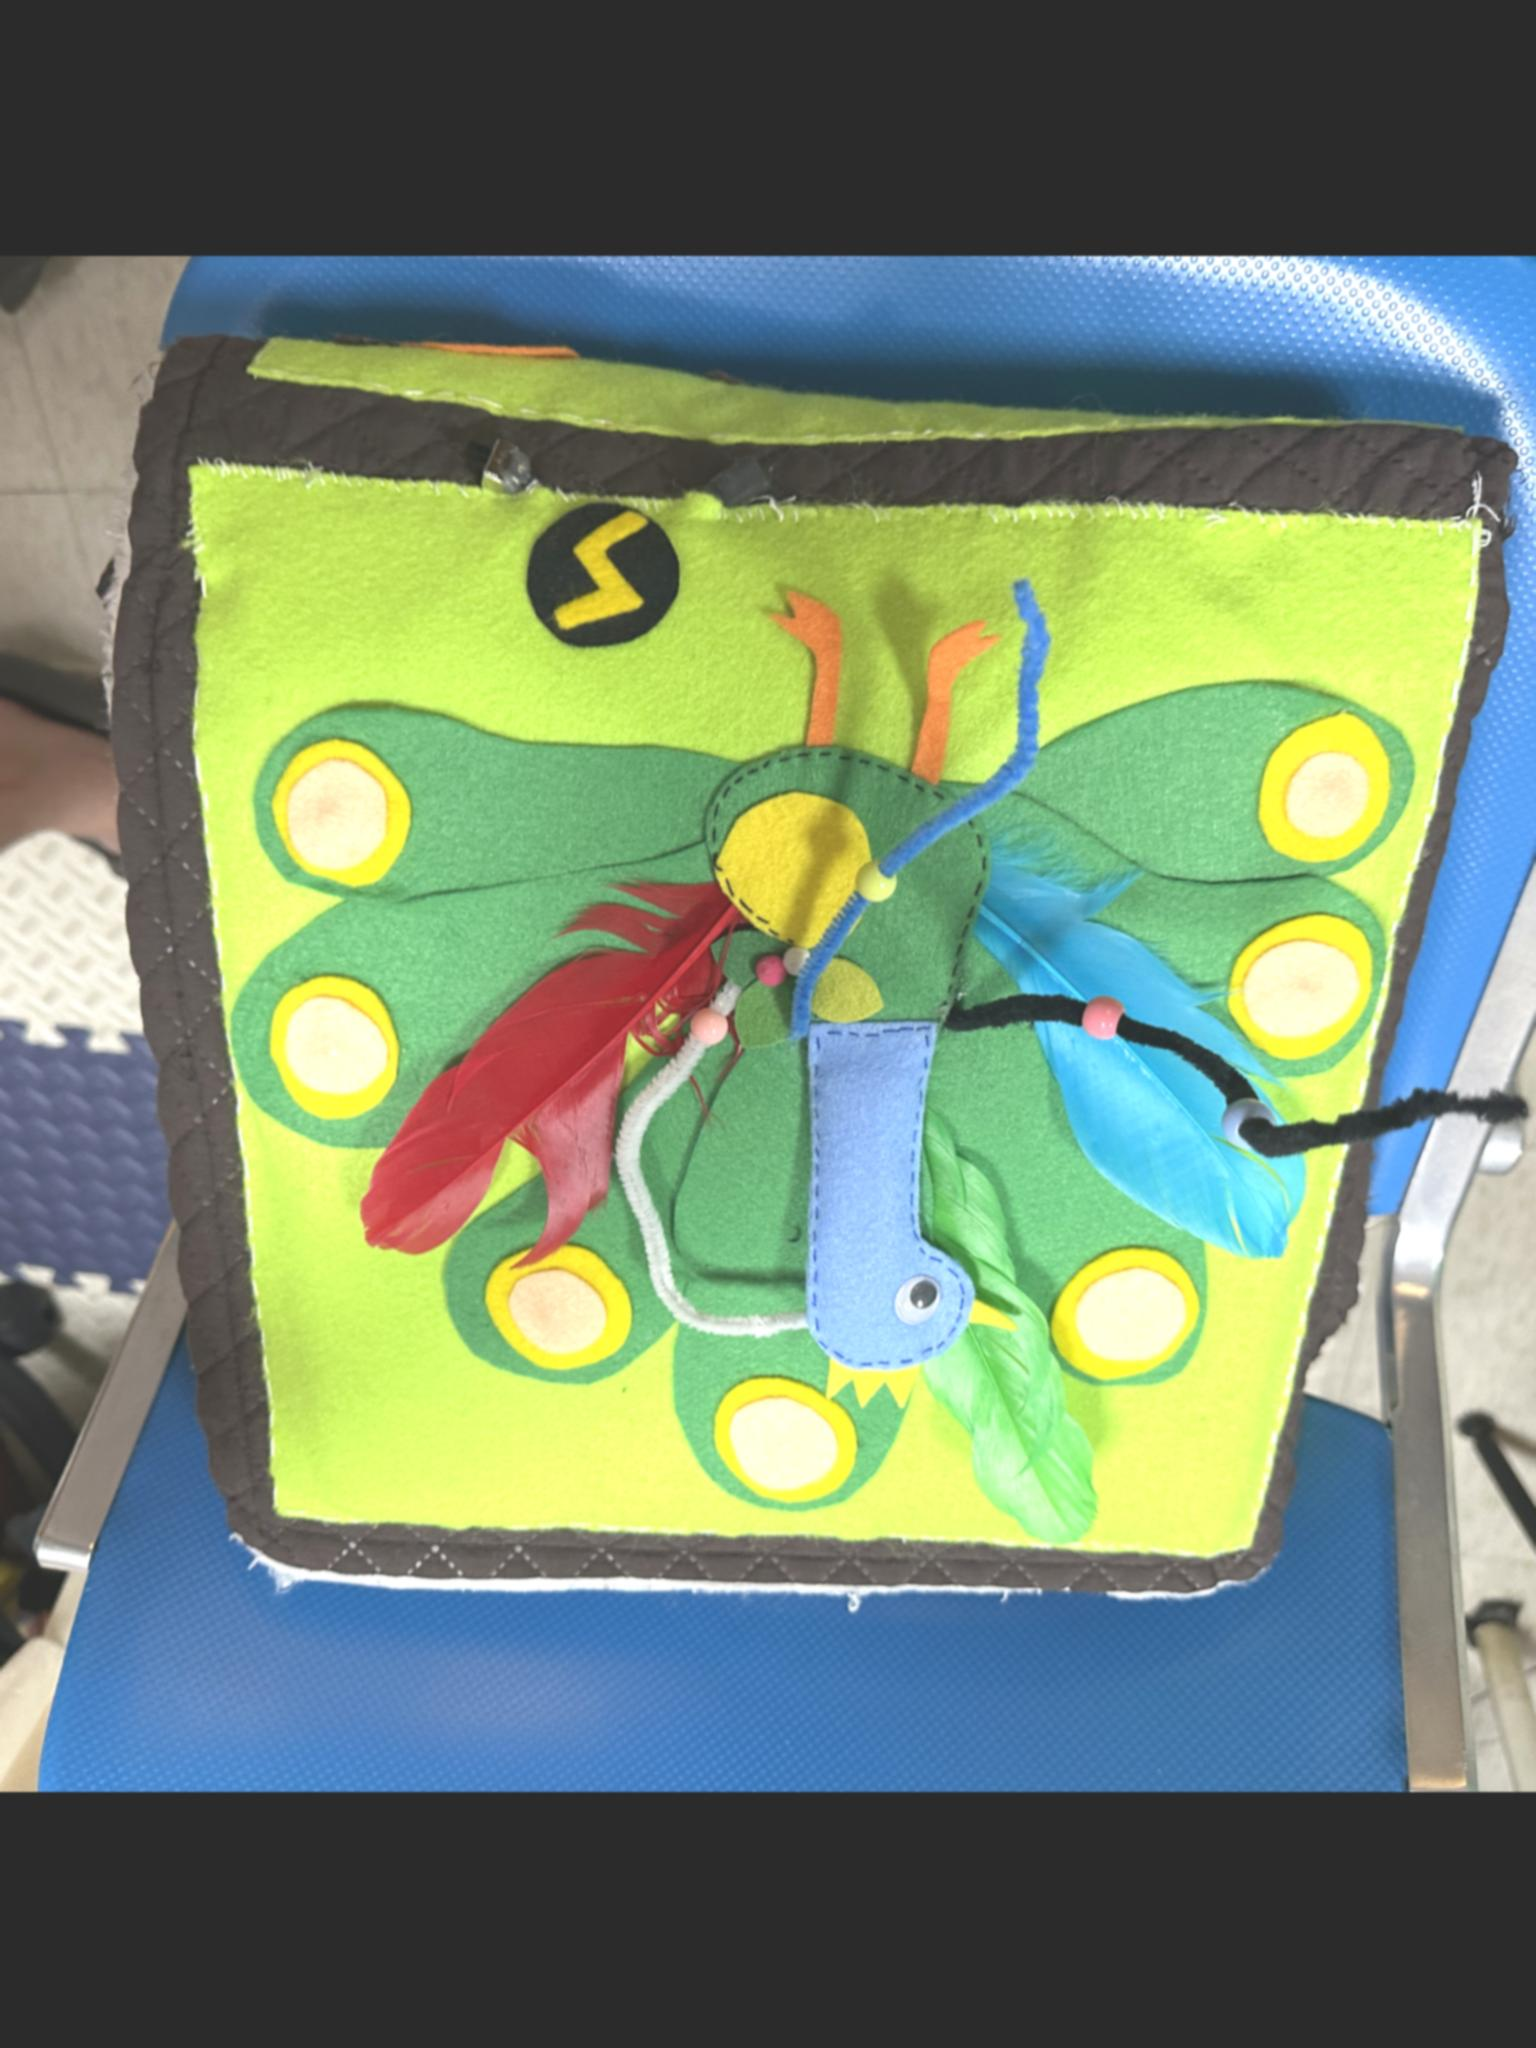bead: (1199, 1082, 1294, 1156), (1063, 976, 1131, 1050), (839, 855, 904, 913), (666, 1009, 742, 1050)
